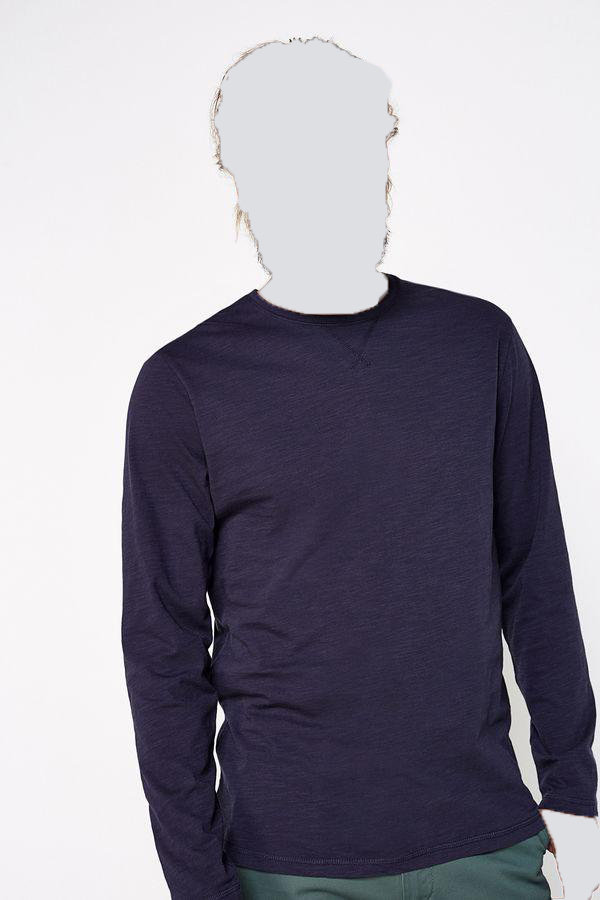teeshirt: (111, 277, 600, 874)
